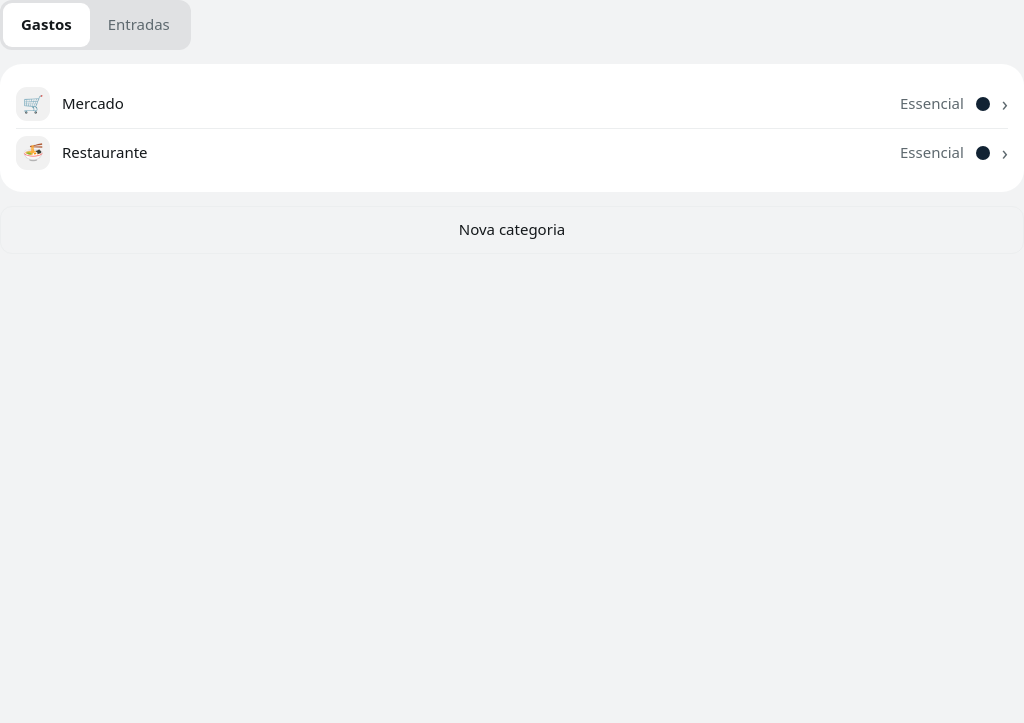
Categories screen › tapping a category opens it for editing
Click the button "🛒 Mercado Essencial ›" at (33, 104), box [16,80,1008,128]
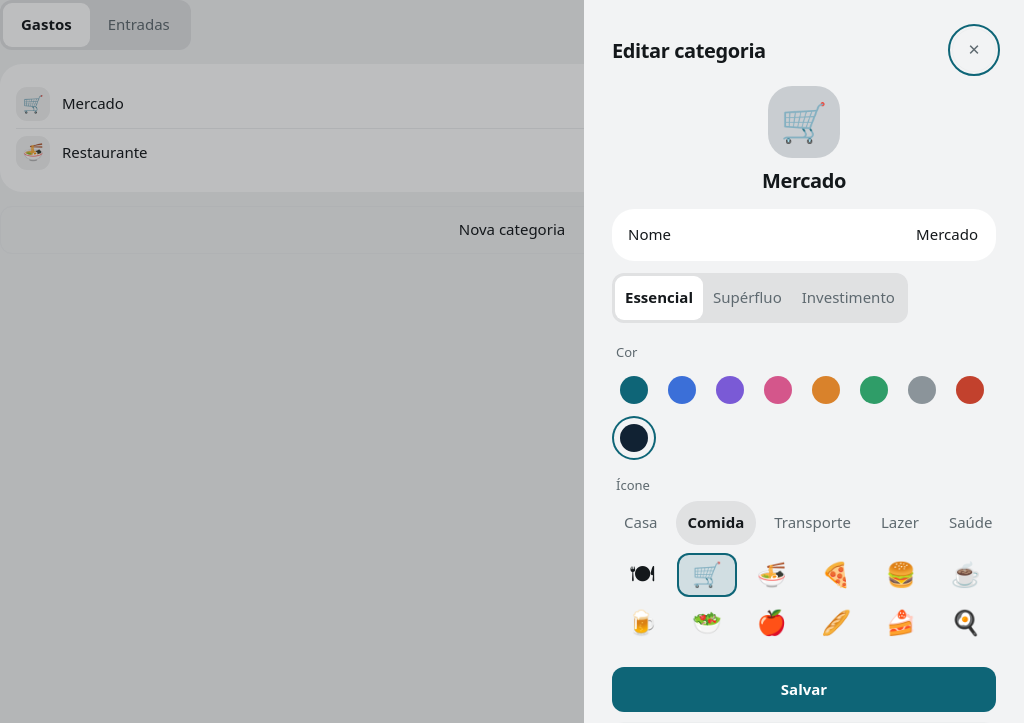
Check: the field named "Nome da categoria" holds "Mercado", box [683,223,980,247]
